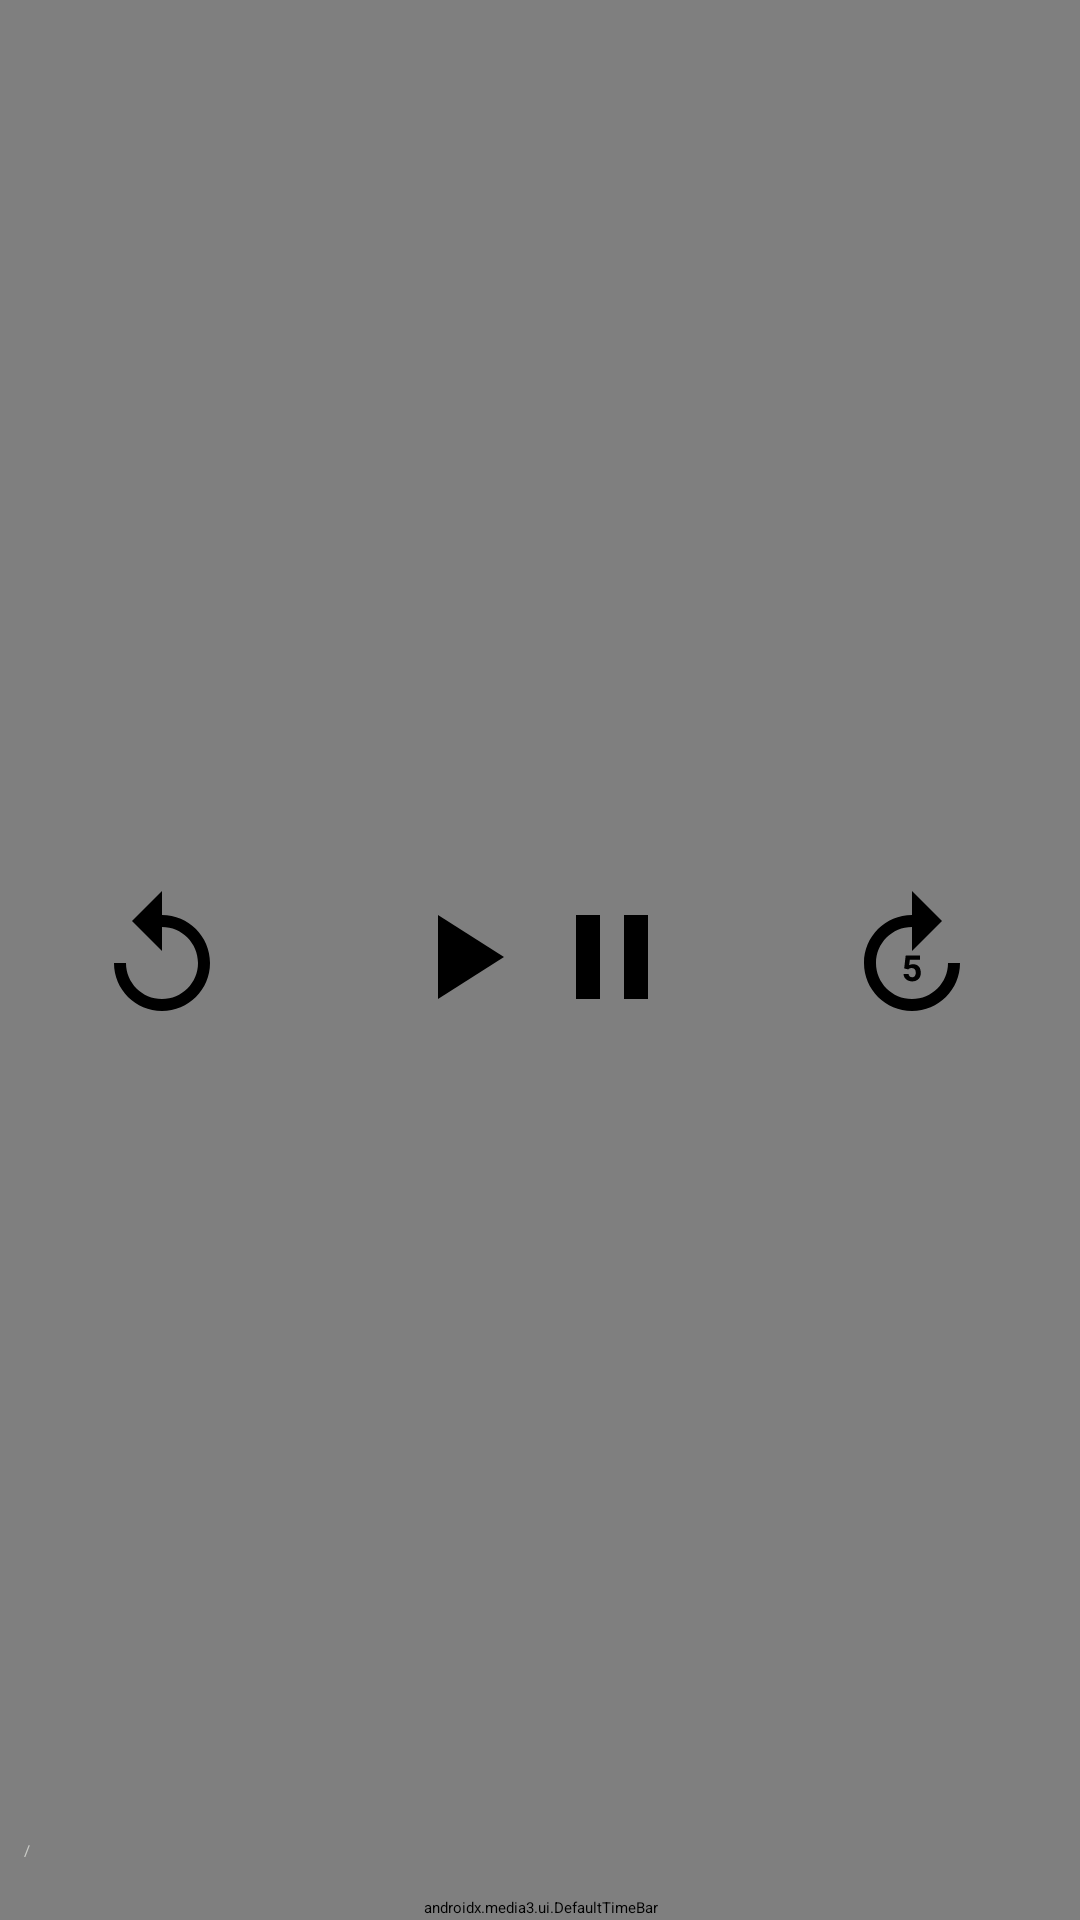

Icon bounding boxes for this 1080×1920 phone screenshot, format (x1, y1, x2, y2):
forward: (864, 891, 960, 1011)
pause: (576, 915, 648, 999)
play arrow: (438, 915, 504, 999)
replay: (114, 891, 210, 1011)
